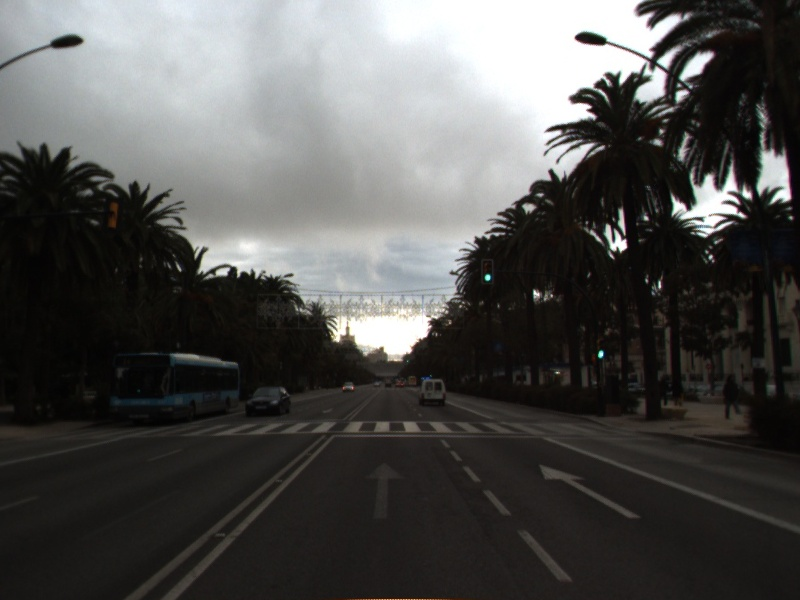STRAIGHT: (536, 462, 644, 521), (362, 460, 408, 522)
